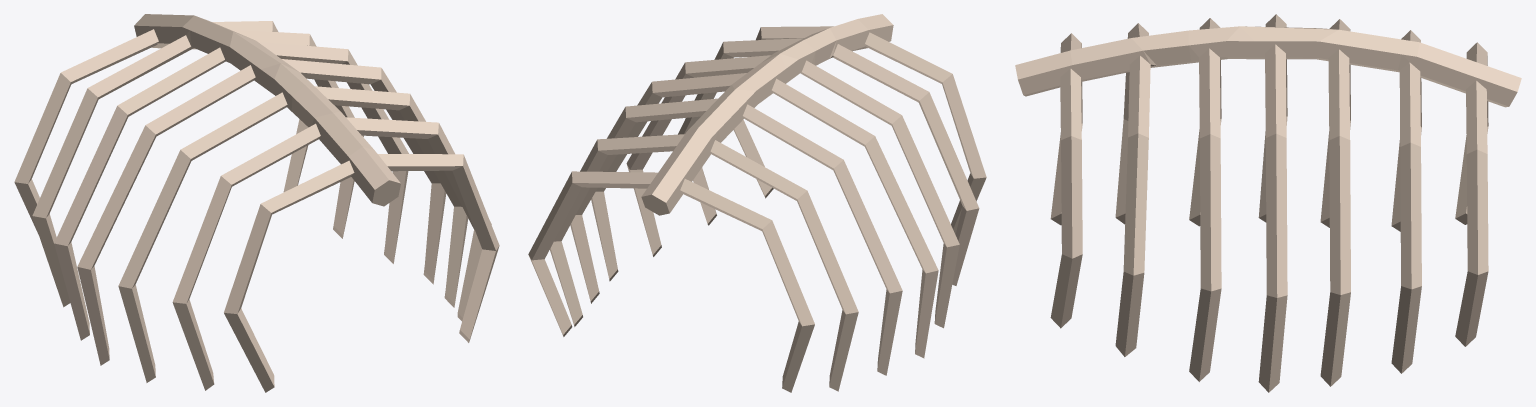
File: shark_carcas.fbx
The picture shows the model from 3 angles, left to right: view 1: azimuth 30°, elevation 25°; view 2: azimuth 150°, elevation 25°; view 3: azimuth 270°, elevation 25°; orthographic projection. The views are drawn at different scales.
Parts seen in each view (by area): view 1: Ribs; view 2: Ribs; view 3: Ribs.
Boxes of the visible parts, x1,y1,x2,y2 form: Ribs: (14, 14, 499, 392); Ribs: (528, 14, 986, 392); Ribs: (1015, 14, 1521, 392).
Bounding box in the file's own units: 2 × 1.4 × 2.28.
